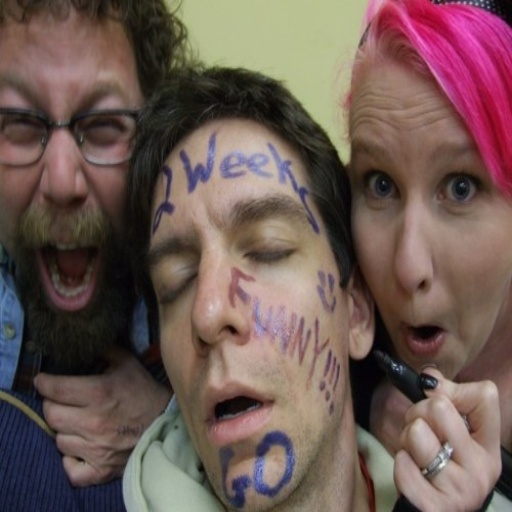hand: (31, 345, 171, 488), (386, 364, 505, 505)
